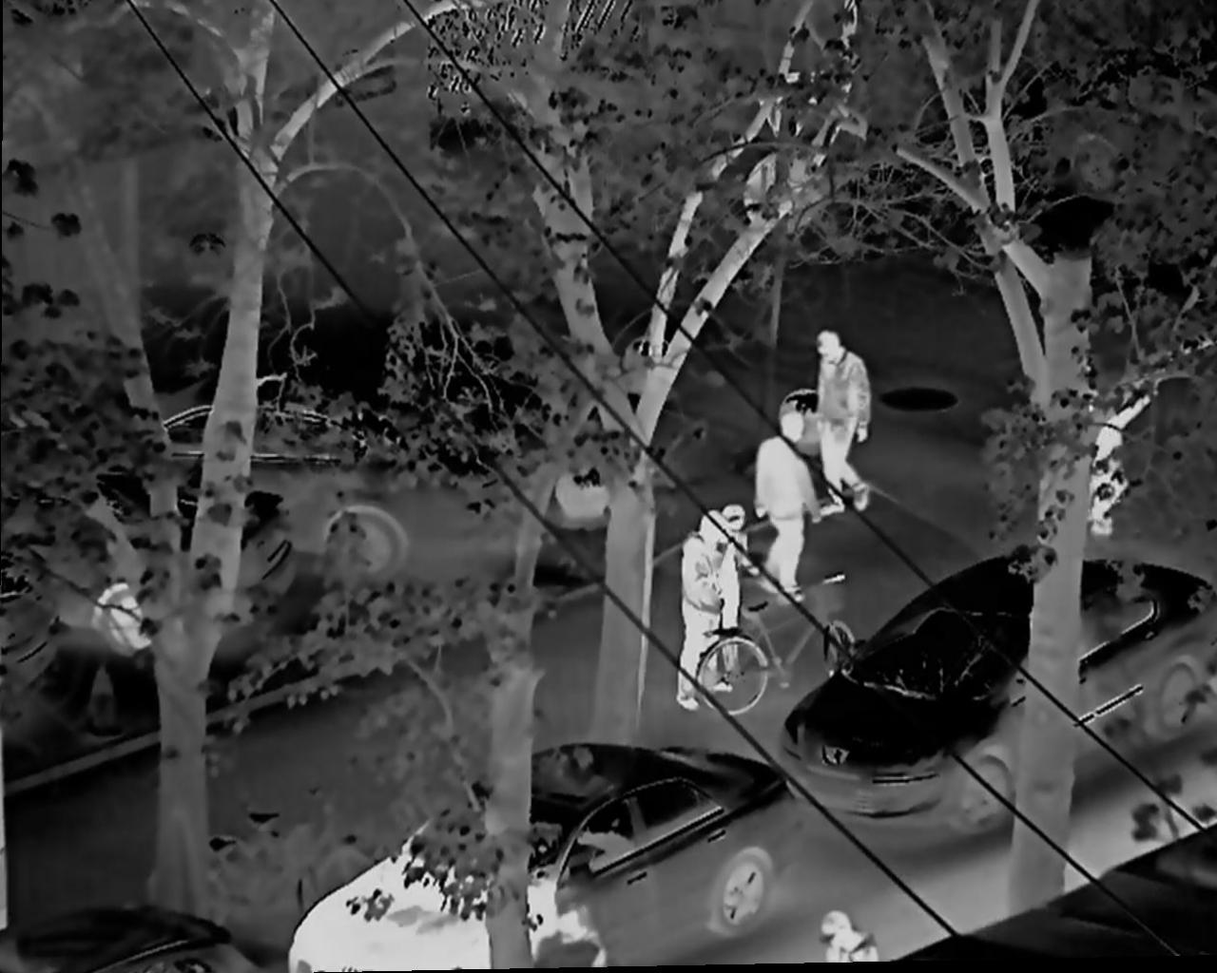person: (756, 412, 824, 604), (810, 331, 879, 520), (676, 507, 732, 709), (720, 506, 751, 671), (810, 906, 886, 963)
